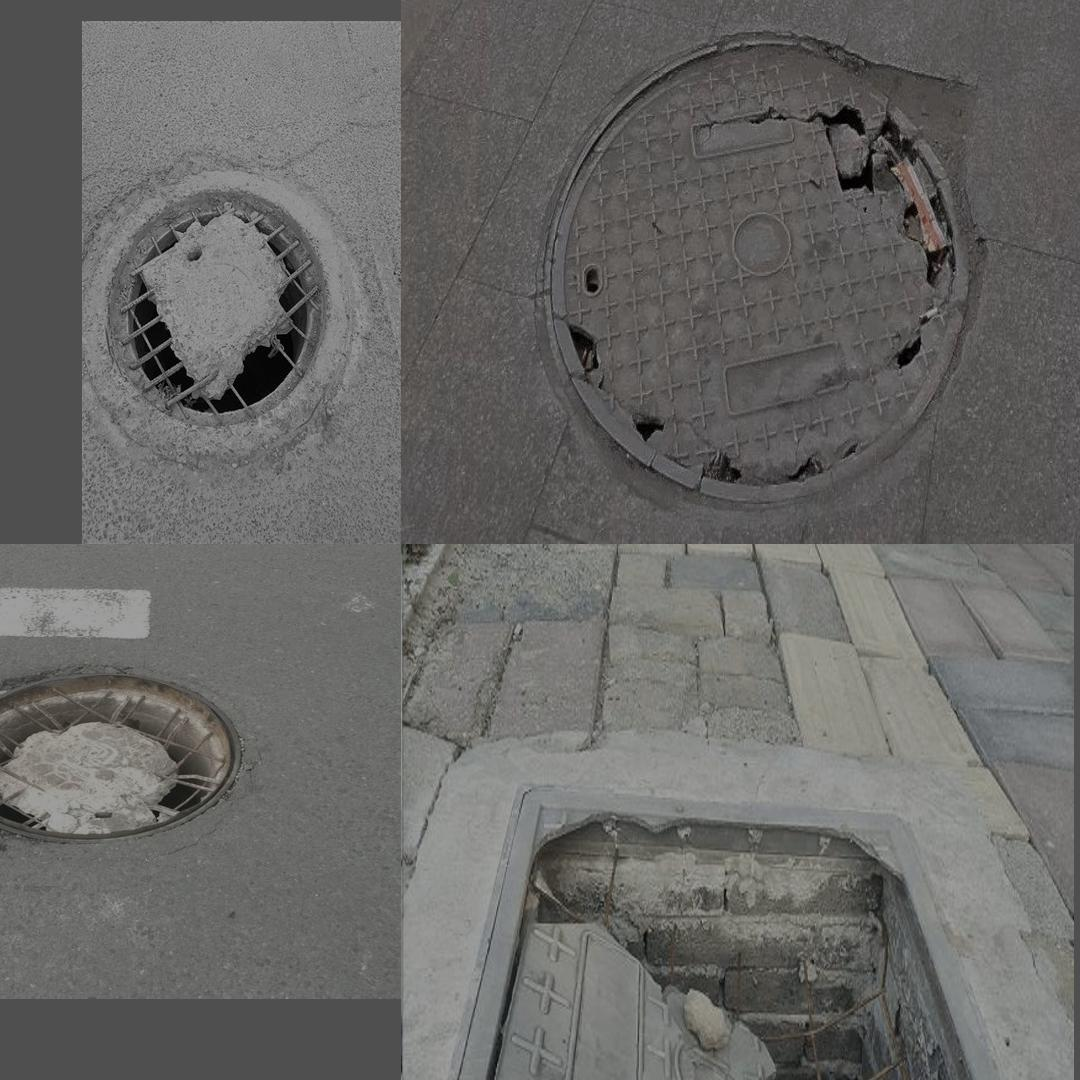broke: (541, 33, 973, 506), (434, 769, 1012, 1080), (93, 163, 341, 451), (0, 653, 256, 848)
